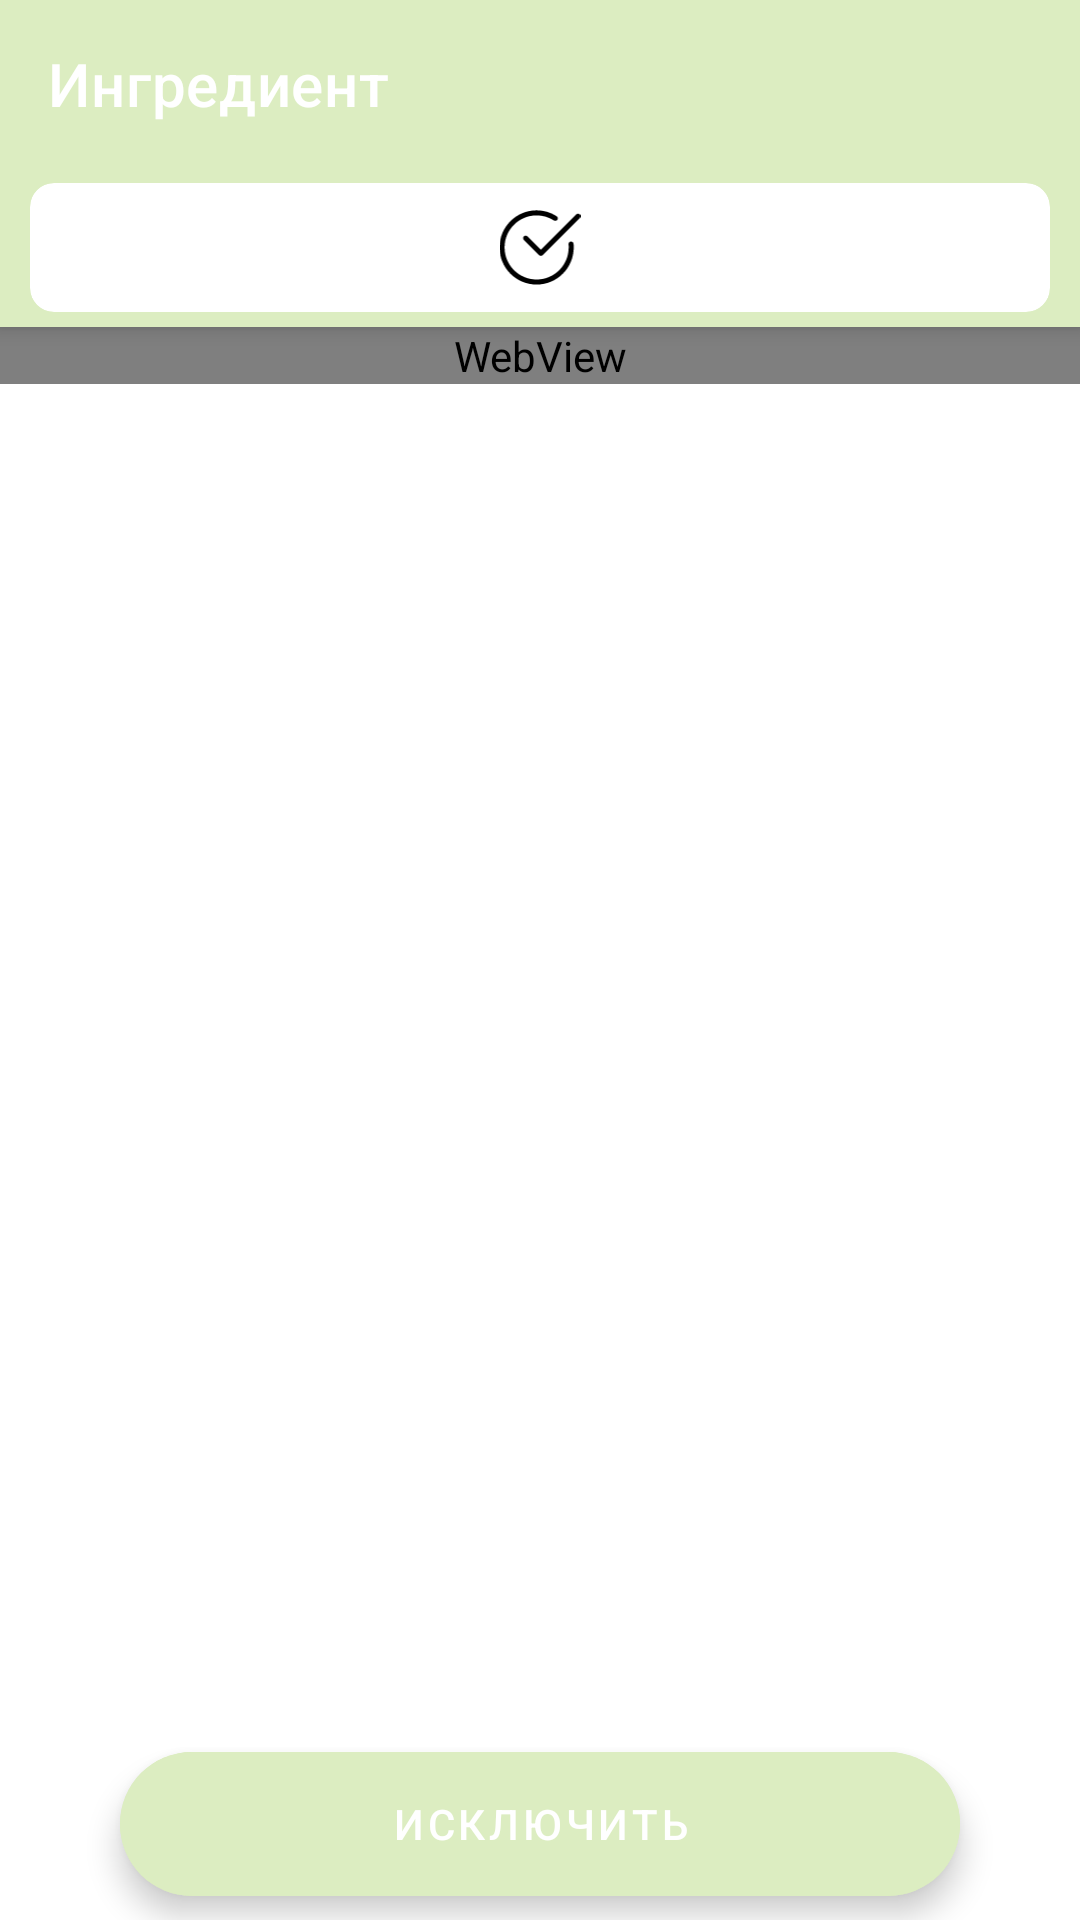

Icon click points for this 1080 × 1920 phone screenshot, format (x,y):
checkmark: (540,247)
